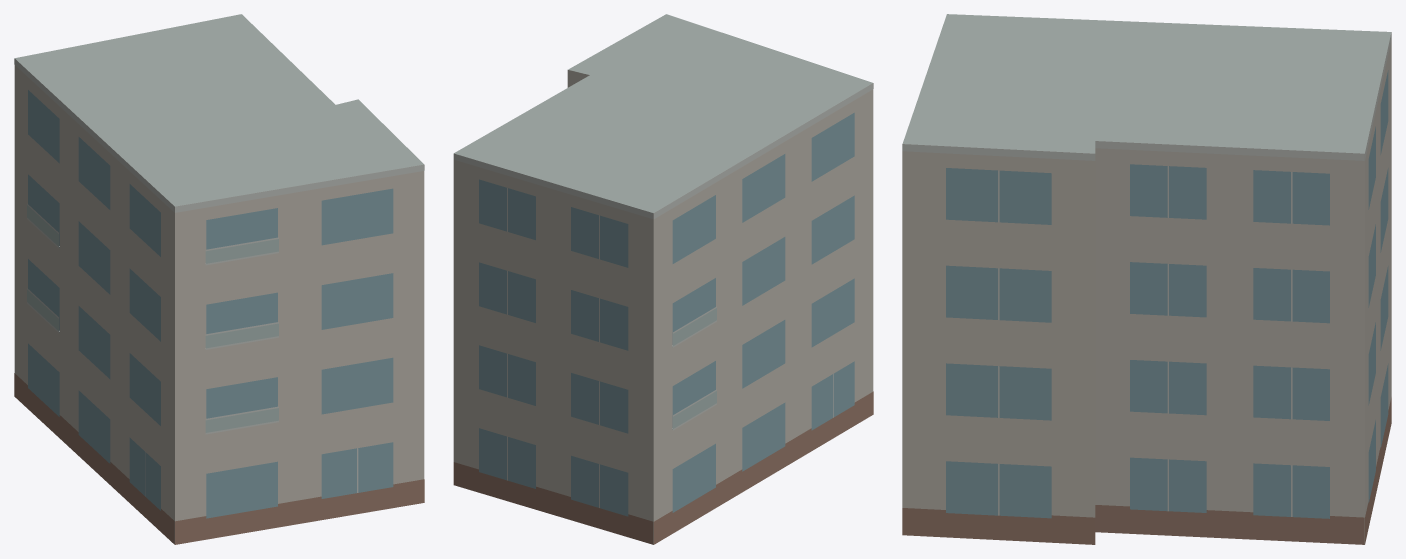
Rendered from survey-upis-32680765.glb.
The picture shows the model from 3 angles, left to right: view 1: azimuth 30°, elevation 25°; view 2: azimuth 150°, elevation 25°; view 3: azimuth 270°, elevation 25°; orthographic projection. The views are drawn at different scales.
Visible parts, largest first — view 1: survey-upis-32680765.tmp; view 2: survey-upis-32680765.tmp; view 3: survey-upis-32680765.tmp.
Boxes of the visible parts, x1=… form: survey-upis-32680765.tmp: x1=14, y1=14, x2=424, y2=544; survey-upis-32680765.tmp: x1=453, y1=14, x2=873, y2=544; survey-upis-32680765.tmp: x1=902, y1=14, x2=1391, y2=544.
Size of the model in its own units: 10.08 by 13.15 by 14.91.
